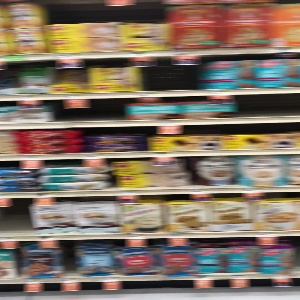void: (144, 55, 202, 95), (58, 96, 124, 125), (234, 92, 300, 119), (1, 194, 27, 235)
